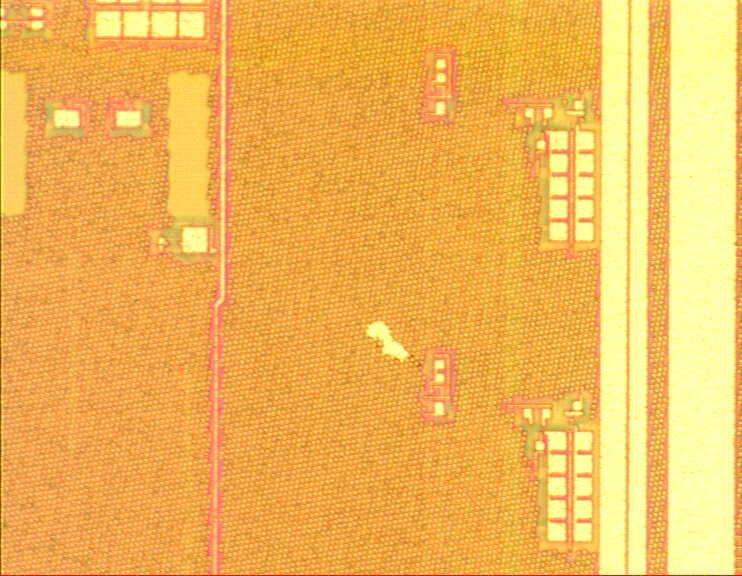BLOCK ETCH: (362, 316, 413, 368)
